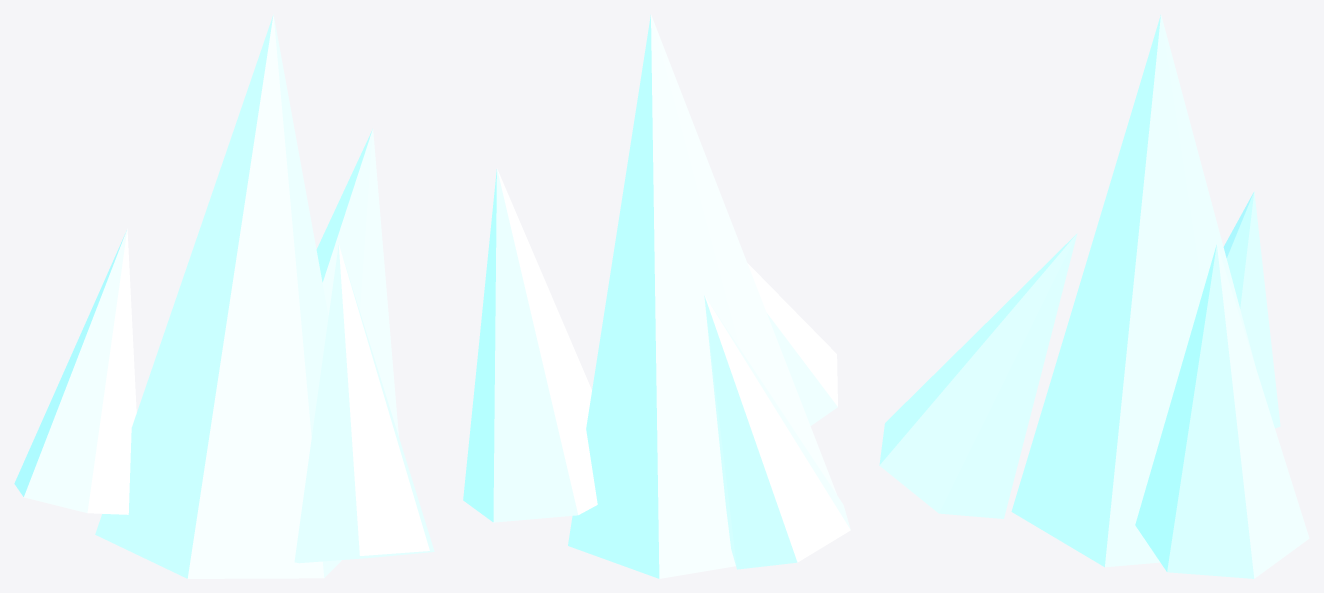
Rendered from gem.glb.
3 renders of one model, left to right at view 1: azimuth 30°, elevation 25°; view 2: azimuth 150°, elevation 25°; view 3: azimuth 270°, elevation 25°, orthographic.
Parts seen in each view (by area): view 1: gem; view 2: gem; view 3: gem.
Part boxes in pixels (box(x1,y1,x2,y2)): gem: box(14, 14, 434, 578); gem: box(463, 15, 850, 578); gem: box(879, 14, 1309, 578).
Size of the model in its own units: 0.2674 by 0.3578 by 0.2681.
